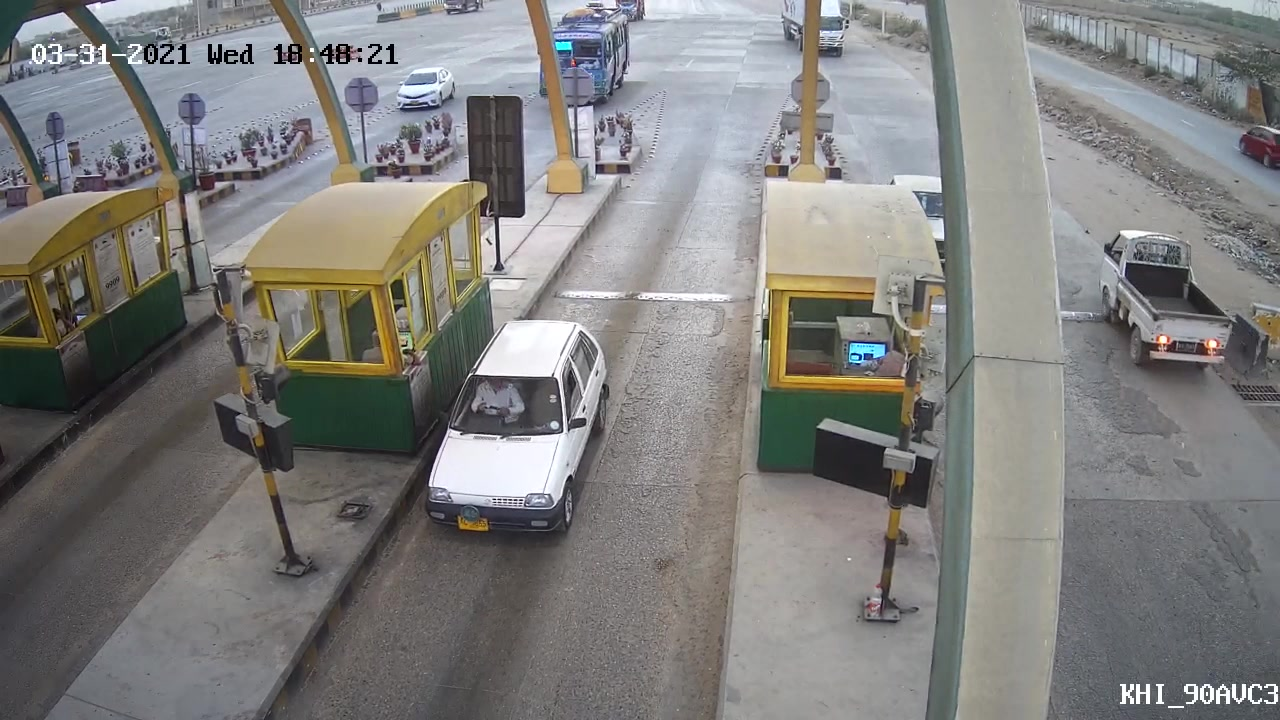F1: (407, 309, 621, 547)
